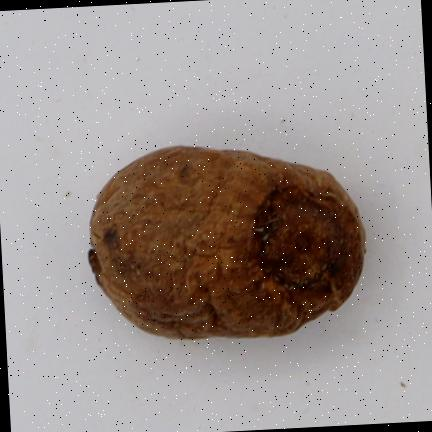husk: (89, 147, 364, 338)
